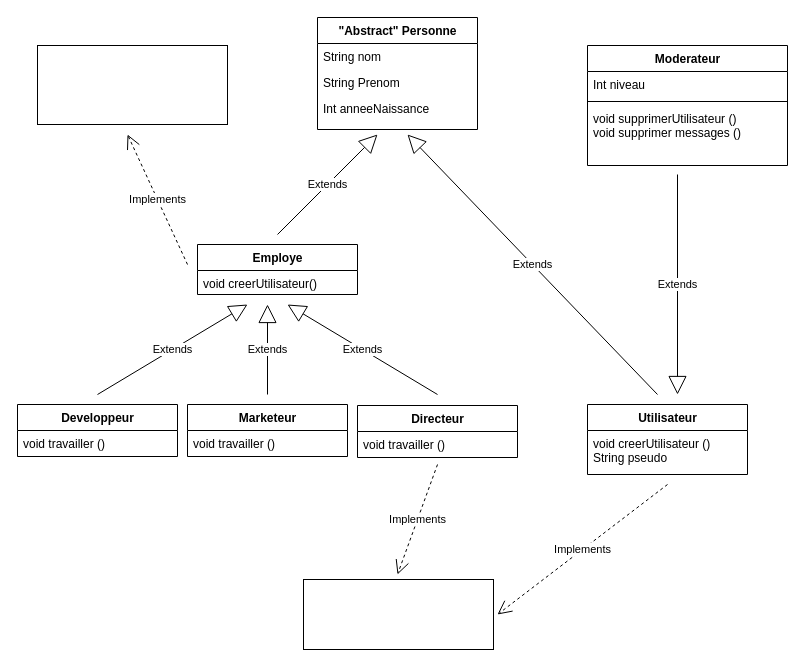
This 805x667 diagram has some shape labels left out. The shapes that lost their labels are listed below. From the top down, each one's centre as x and y in pixels, then its label:
At (132,84): "<<Interface>> Interface void recevoirPaiement ()".
At (398,614): "«interface» Relation void ajouterPersonne ()".
